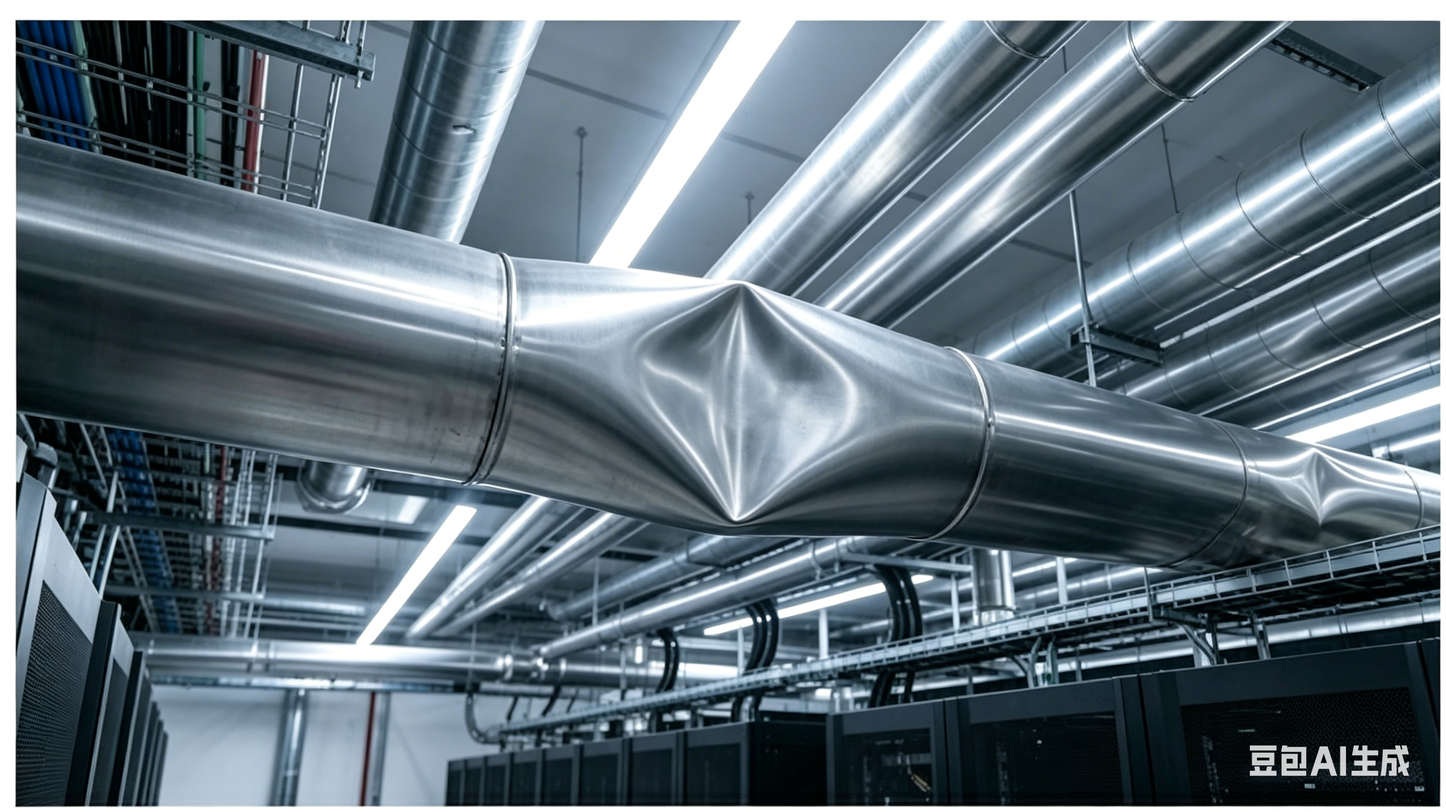Leakage: (609, 267, 880, 527), (1244, 439, 1400, 527)
